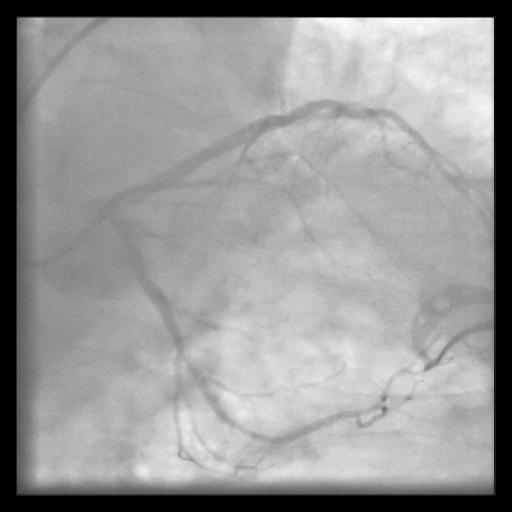Stenosis: (179, 348, 213, 396)
